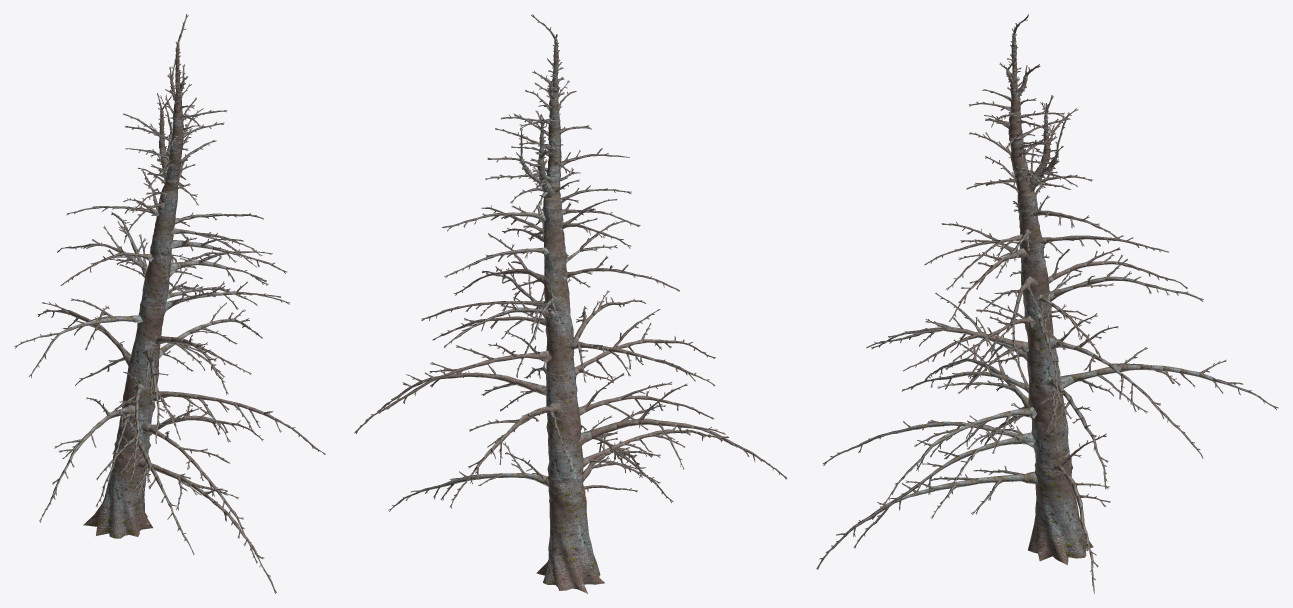
Rendered from fir_3.obj.
The picture shows the model from 3 angles, left to right: view 1: azimuth 30°, elevation 25°; view 2: azimuth 150°, elevation 25°; view 3: azimuth 270°, elevation 25°; orthographic projection. The views are drawn at different scales.
Visible parts, largest first — view 1: fir_3; view 2: fir_3; view 3: fir_3.
Boxes of the visible parts, box(x1,y1,x2,y2) form: fir_3: box(14, 14, 325, 593); fir_3: box(354, 14, 787, 593); fir_3: box(816, 14, 1278, 593).
Bounding box in the file's own units: 5.86 × 9.34 × 6.96.
Materials: 1 (1 with a texture image).
